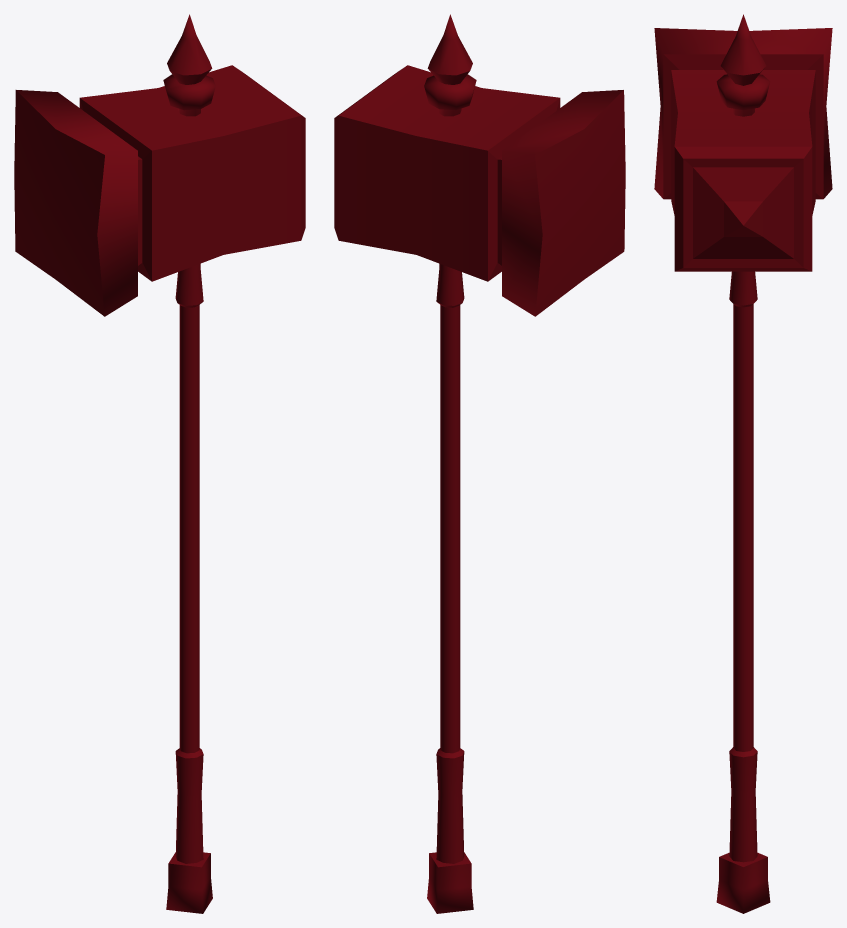
File: HeavyHammer.FBX
The picture shows the model from 3 angles, left to right: view 1: azimuth 30°, elevation 25°; view 2: azimuth 150°, elevation 25°; view 3: azimuth 270°, elevation 25°; orthographic projection.
Visible parts, largest first — view 1: ACF_Weap_HeavyHammer_ACF_ACL; view 2: ACF_Weap_HeavyHammer_ACF_ACL; view 3: ACF_Weap_HeavyHammer_ACF_ACL.
Boxes of the visible parts, x1,y1,x2,y2 form: ACF_Weap_HeavyHammer_ACF_ACL: (14, 14, 305, 913); ACF_Weap_HeavyHammer_ACF_ACL: (334, 14, 625, 913); ACF_Weap_HeavyHammer_ACF_ACL: (654, 14, 832, 913).
Size of the model in its own units: 64.21 by 40.06 by 220.
